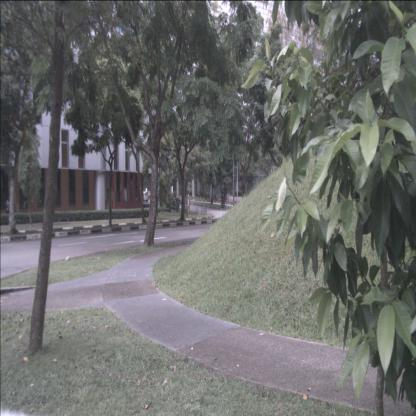human-pedestrian-adult: (5, 195, 11, 221)
vehicle-car: (139, 191, 148, 202)
